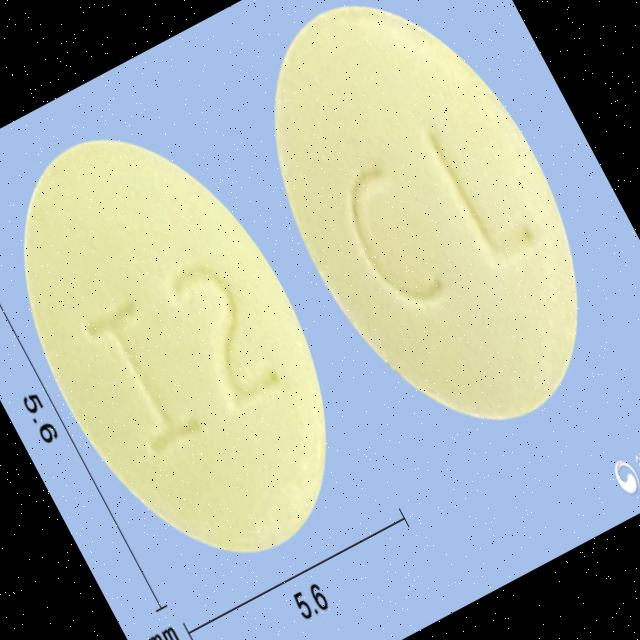Immuthera - 50mg: (209, 0, 640, 471), (0, 84, 389, 604)
